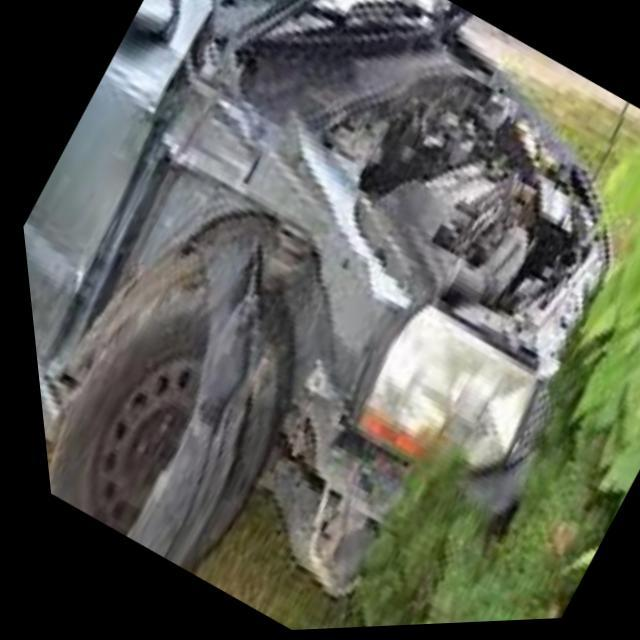no part: (31, 11, 497, 581)
